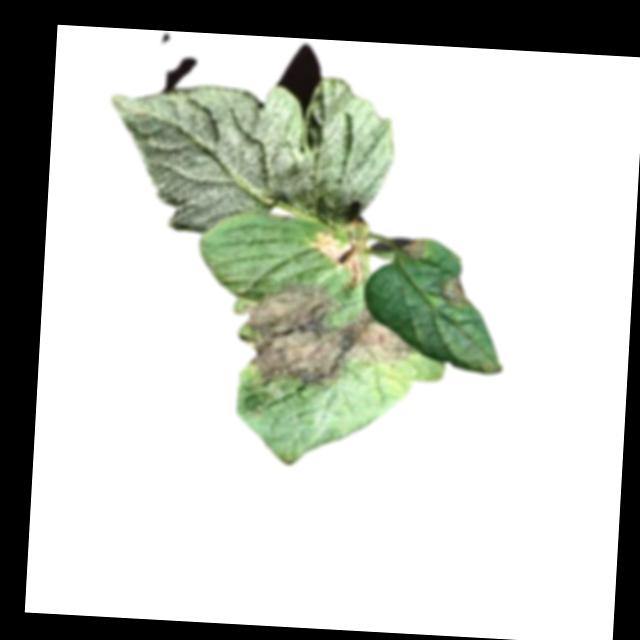Late_blight: (226, 281, 422, 395), (307, 230, 367, 290), (437, 275, 473, 311), (399, 238, 426, 260)
